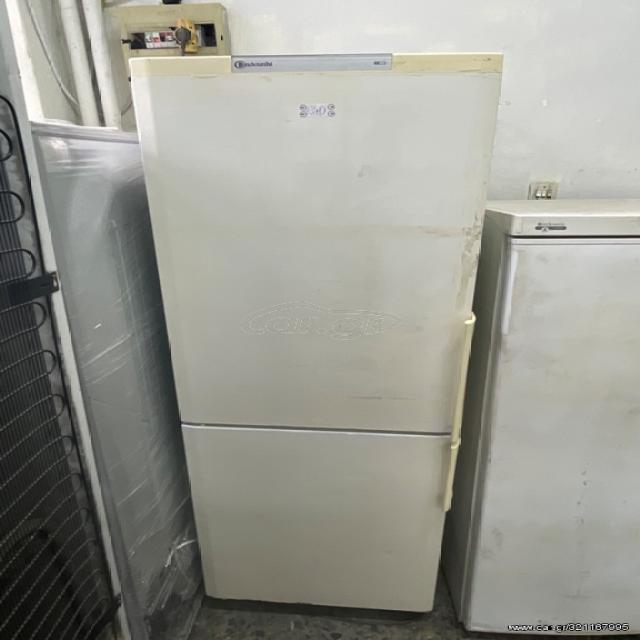refrigerator: (126, 54, 499, 603), (456, 216, 640, 633)
